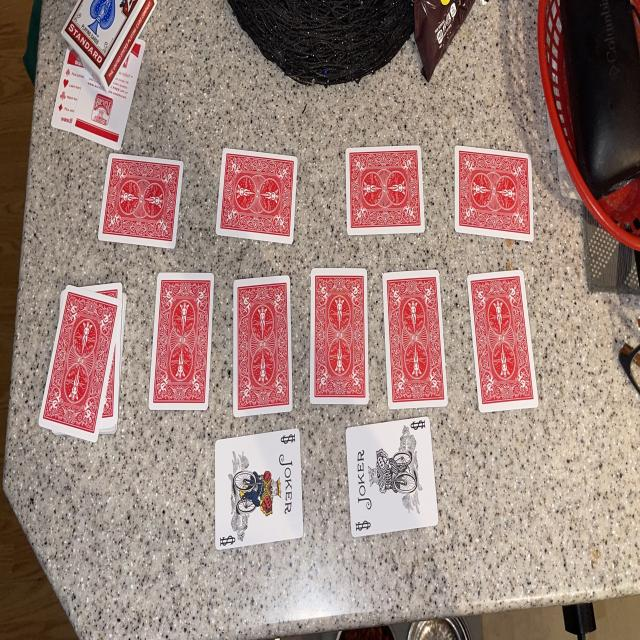Joker: (346, 418, 438, 538), (215, 429, 302, 549)
card back: (39, 287, 120, 442), (468, 271, 538, 411), (149, 273, 214, 409), (384, 271, 446, 409), (234, 276, 292, 418), (99, 153, 182, 249), (310, 269, 369, 404), (216, 149, 296, 244), (454, 147, 534, 242), (345, 147, 425, 236), (100, 324, 121, 433), (94, 282, 122, 302)
